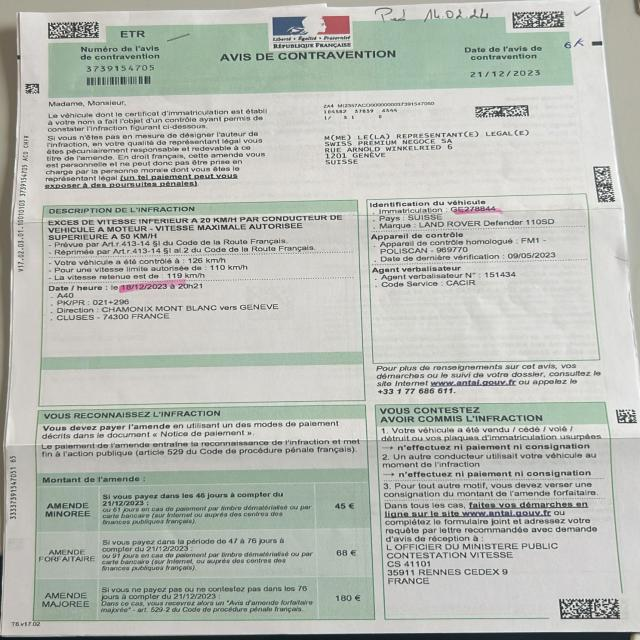paper-document-: (0, 2, 640, 639)
